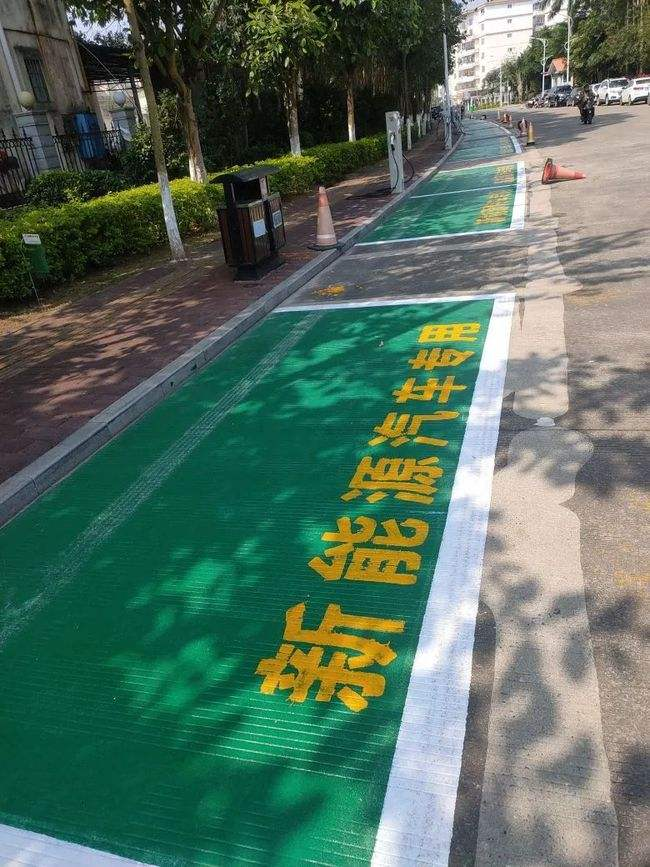slot_nocar: (13, 291, 556, 867), (331, 179, 541, 244), (389, 155, 528, 195), (440, 134, 533, 172)
